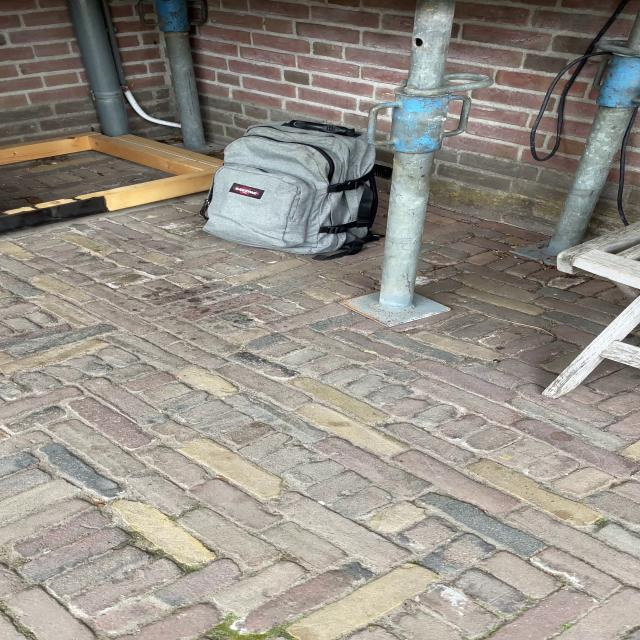backpack: (193, 113, 390, 260)
